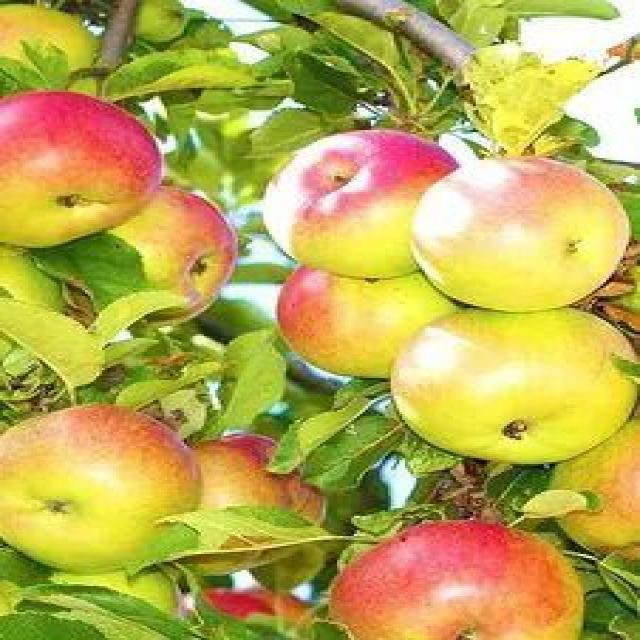Fresh Apple: (390, 297, 637, 468), (412, 150, 632, 312), (0, 400, 205, 570), (323, 513, 583, 640), (262, 130, 453, 277), (2, 85, 168, 252), (265, 257, 458, 378), (101, 175, 242, 318), (202, 427, 322, 565), (561, 423, 640, 544)
